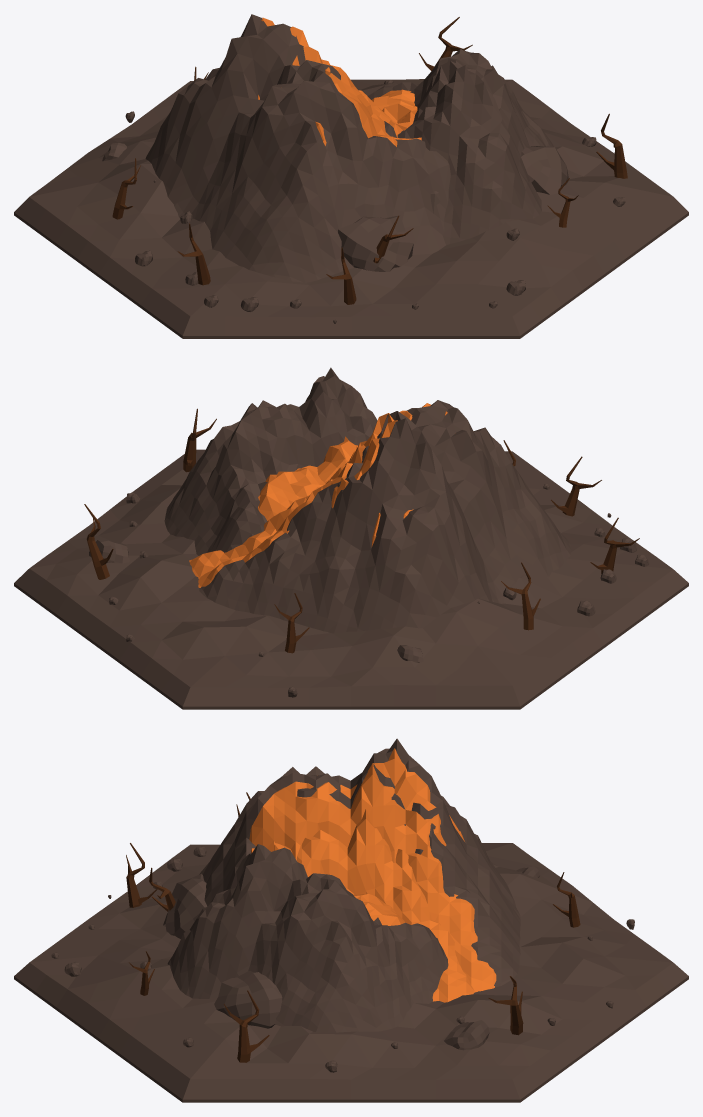
Rendered from scorchedmountains.glb.
The picture shows the model from 3 angles, top to bottom: view 1: azimuth 30°, elevation 25°; view 2: azimuth 150°, elevation 25°; view 3: azimuth 270°, elevation 25°; orthographic projection.
Parts seen in each view (by area): view 1: big_details, land, small_details; view 2: big_details, land, small_details; view 3: land, big_details, small_details.
Part boxes in pixels (box(x1,y1,x2,y2)): big_details: box(112, 14, 627, 304); land: box(14, 79, 688, 338); small_details: box(102, 79, 625, 323); big_details: box(84, 367, 639, 653); land: box(14, 449, 688, 709); small_details: box(89, 456, 649, 697); land: box(14, 843, 688, 1102); big_details: box(126, 738, 580, 1062); small_details: box(51, 846, 634, 1072).
Bounding box in the file's own units: 1.73 × 0.6651 × 2.
